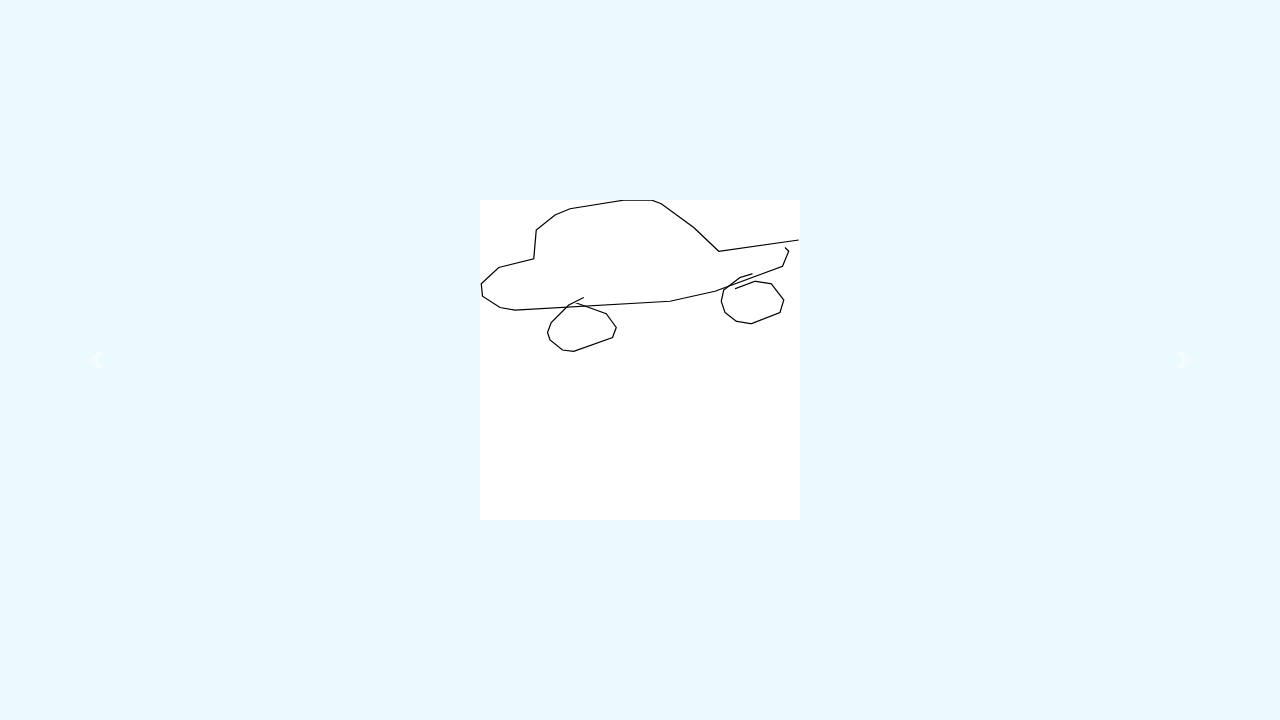car: (473, 197, 805, 355)
